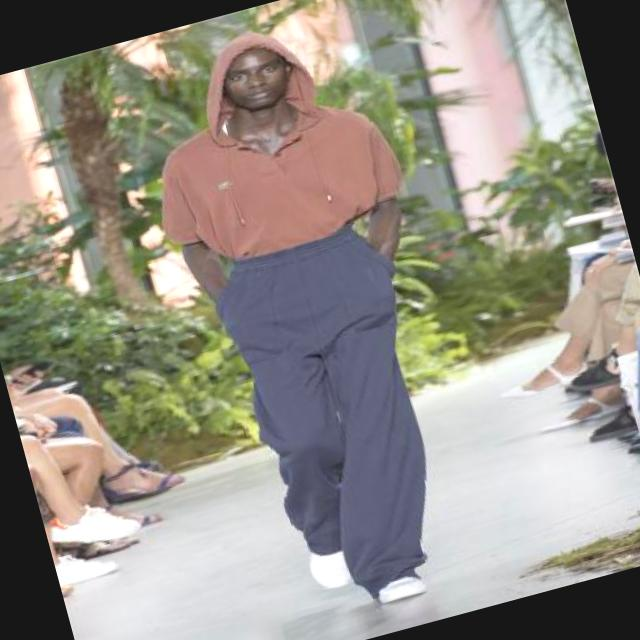Person: (90, 0, 553, 640)
